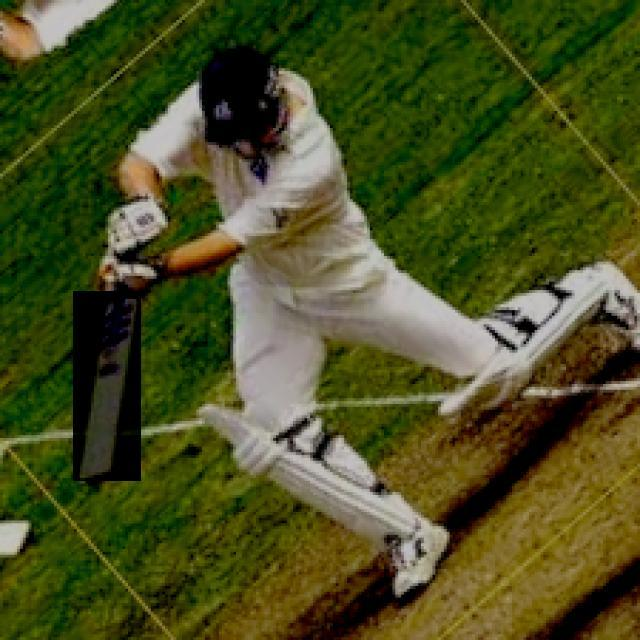bat: (75, 290, 136, 479)
toe: (75, 463, 139, 482)
